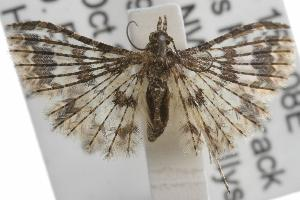Alucitidae: (1, 15, 290, 195)
moth: (1, 16, 291, 196)
